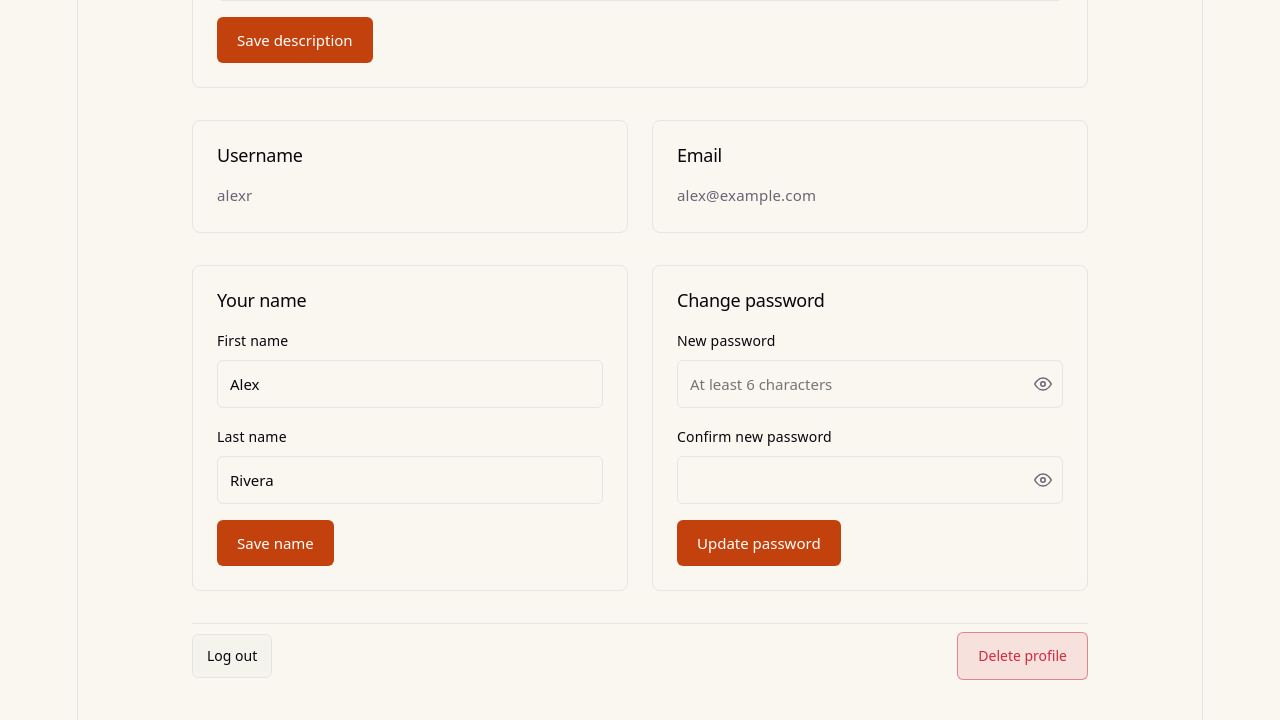
Test: Profile › saves an updated name and shows a confirmation dialog
(page scrolled)
Replace the text in the field labelled "First name" with "Alexander" at [410, 384], box [217,360,603,408]
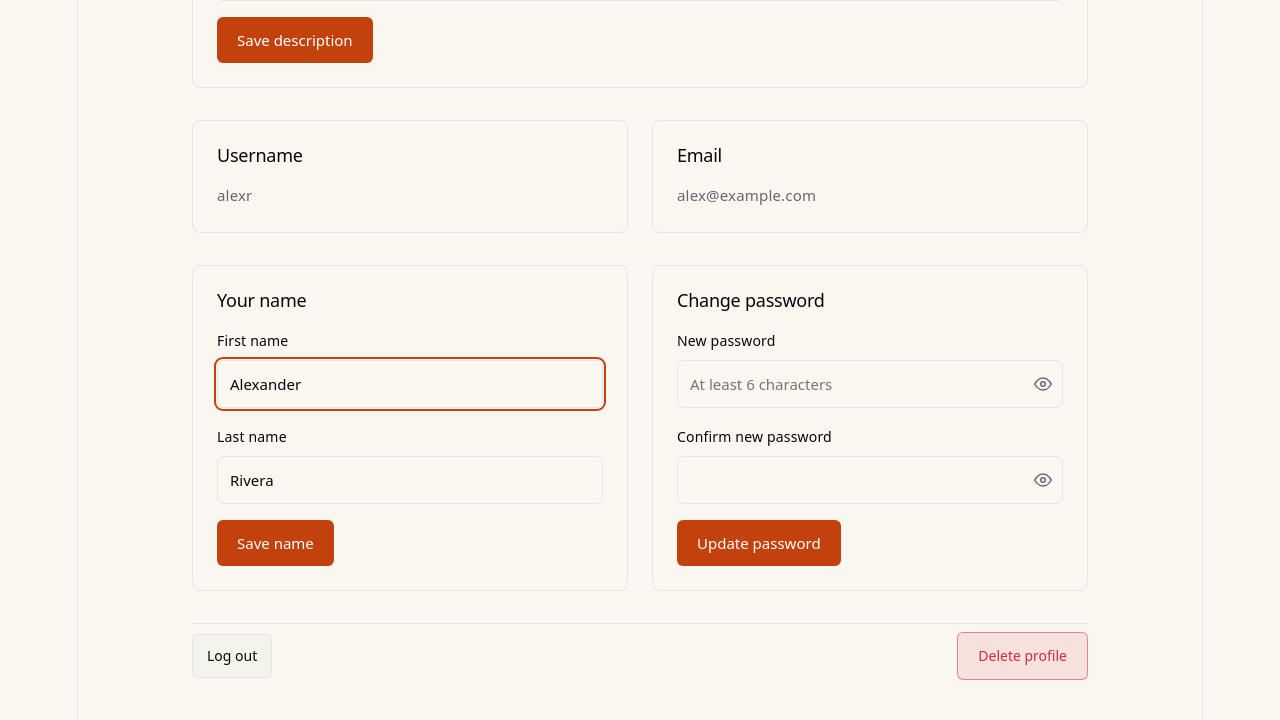
Click the button "Save name" at [275, 543], box [217,520,334,566]
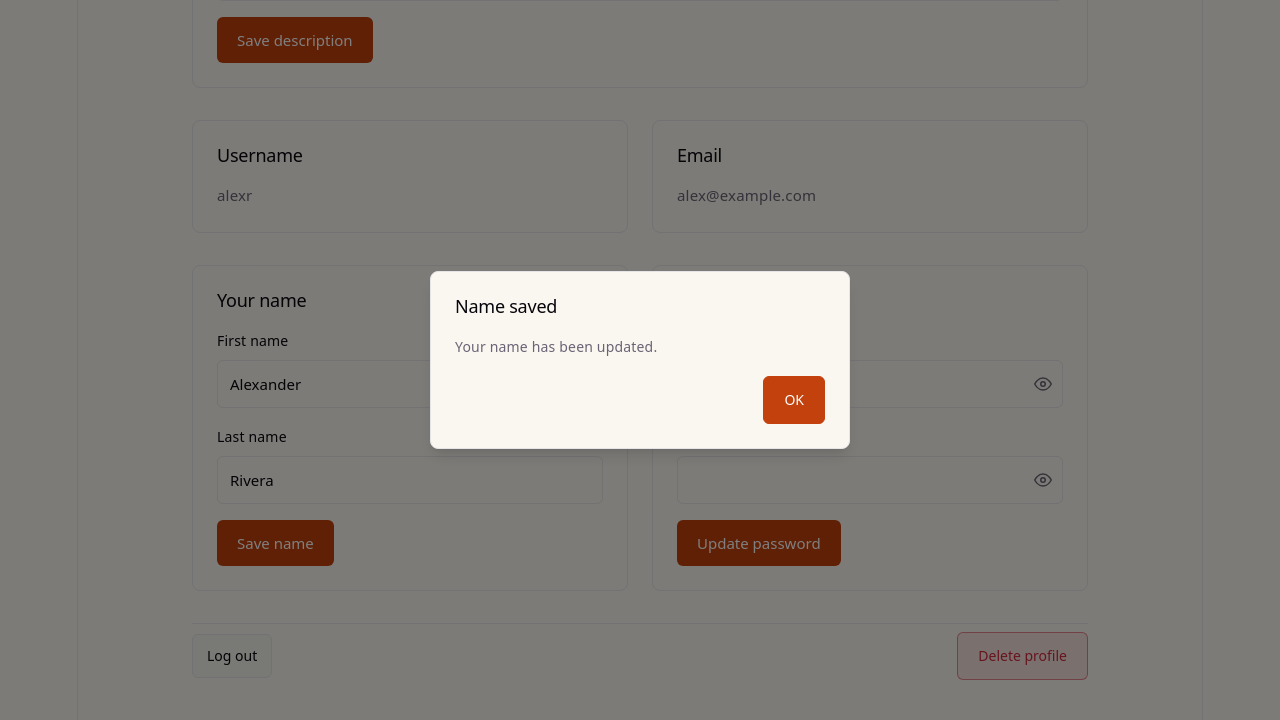
Result: the heading "Name saved" is shown at [455,294,557,318]
